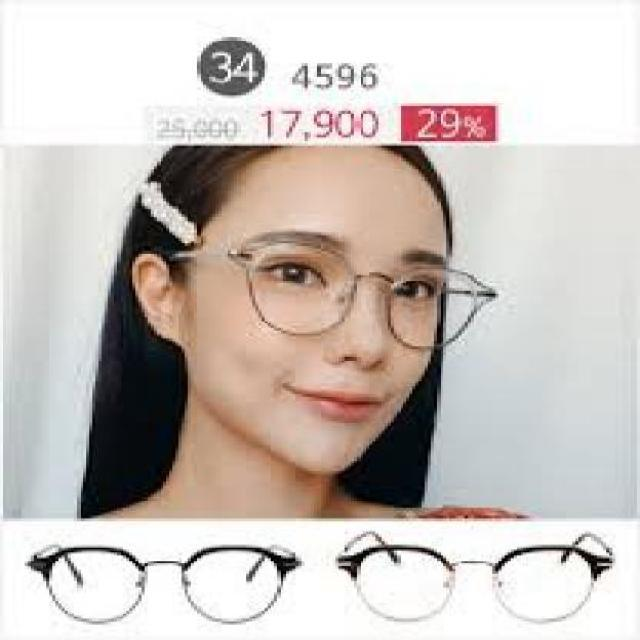mask: (222, 206, 516, 360)
